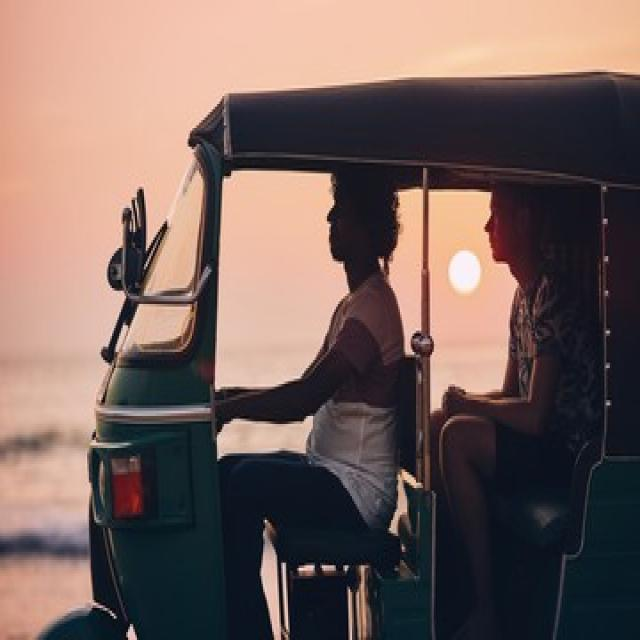person: (262, 184, 597, 637), (215, 168, 402, 637)
three wheeler: (46, 72, 638, 637)
